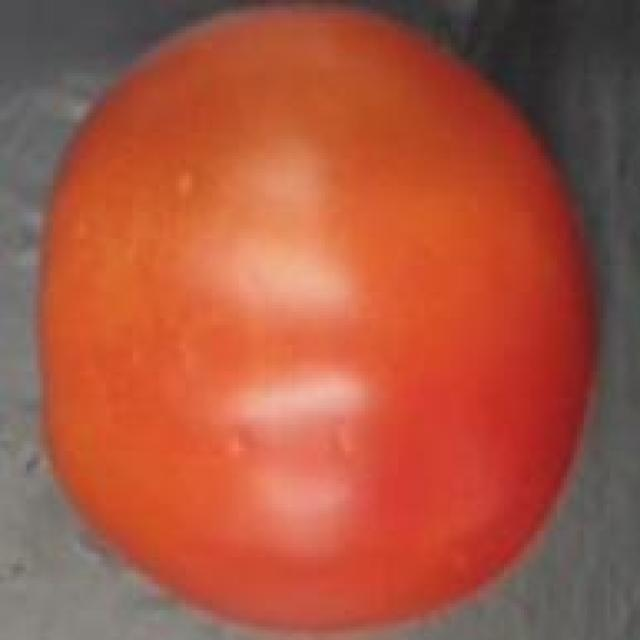overripe tomato: (30, 0, 613, 640)
